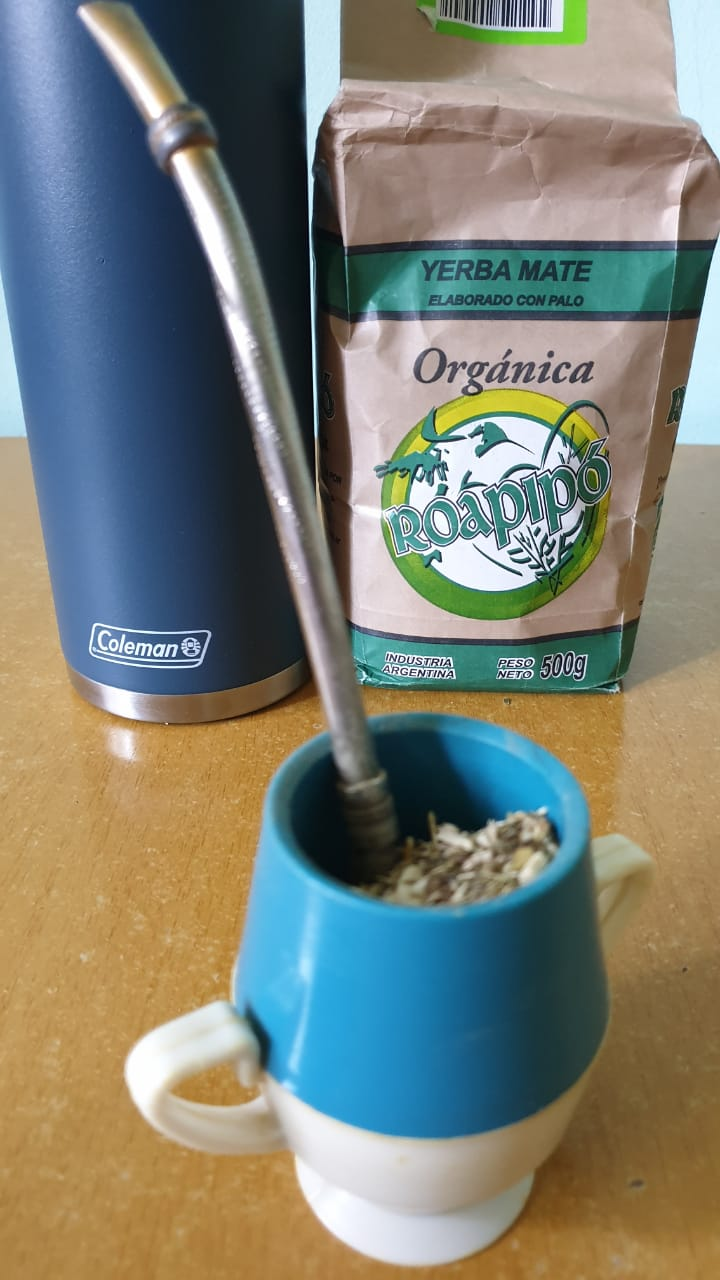mate: (120, 653, 682, 1273)
plastico: (131, 674, 669, 1280)
